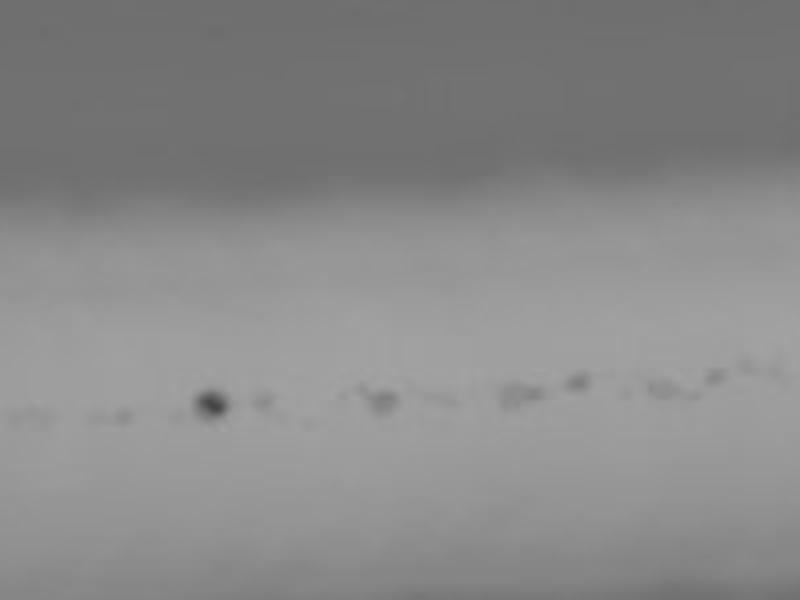defect: (494, 378, 527, 412), (191, 392, 230, 419), (414, 384, 462, 404), (367, 390, 398, 418), (561, 369, 592, 392), (649, 374, 675, 400), (701, 366, 727, 387), (736, 350, 757, 375), (525, 384, 552, 403), (253, 389, 276, 410), (113, 405, 137, 424), (81, 409, 101, 427), (683, 386, 700, 403), (299, 416, 318, 429), (764, 368, 781, 382), (616, 385, 630, 400), (353, 380, 365, 394)
